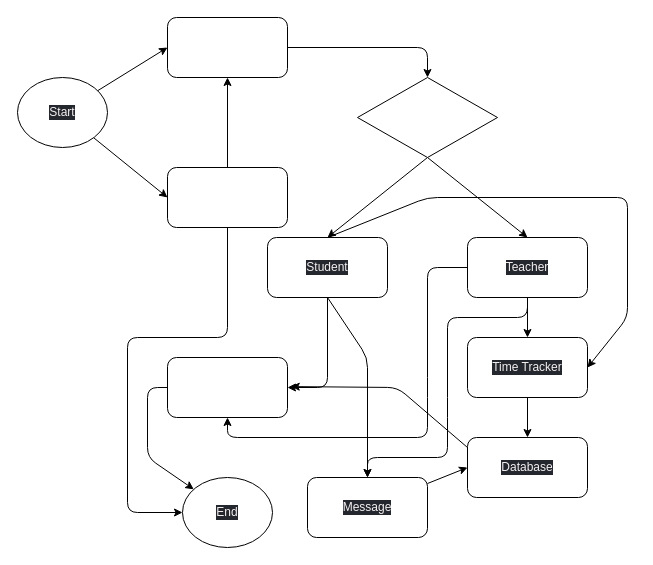
This 653x565 diagram has some shape labels left out. The shapes that lost their labels are listed below. From the top down, each one's box as (x1, y1, x2, y2) in pixels, then its label:
(166, 16, 288, 78): Login/Signup
(356, 76, 498, 158): Role
(166, 166, 288, 228): Guest
(166, 356, 288, 418): Learn/Explore/More
